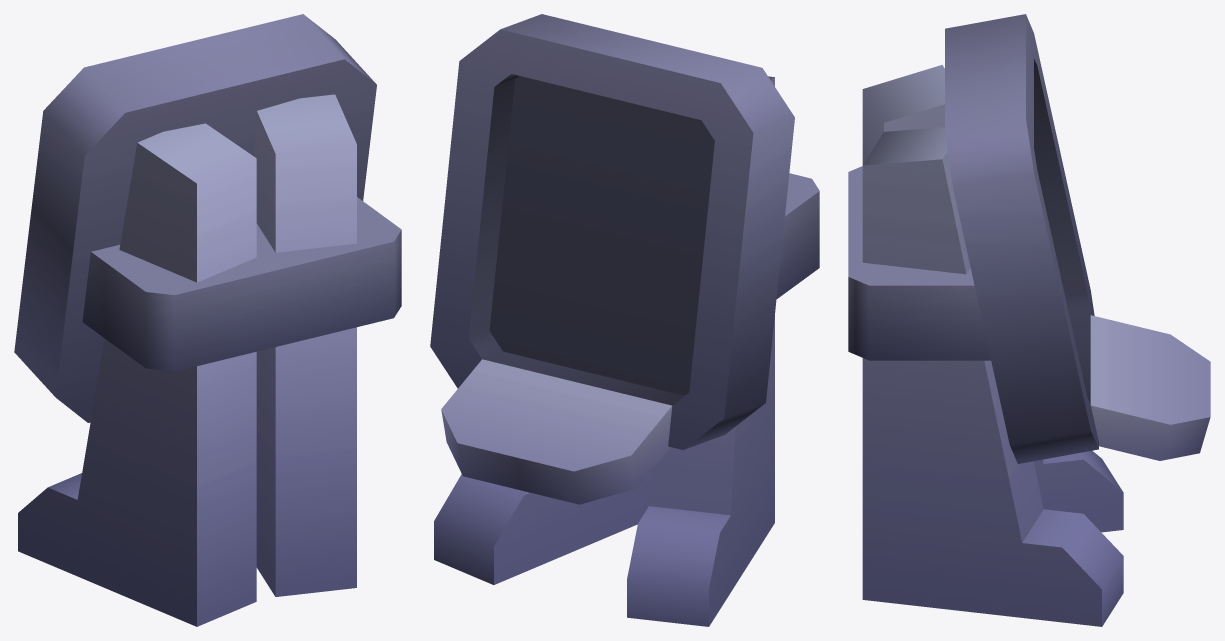
Rendered from kenney-conveyor-screen-panel-small.glb.
3 renders of one model, left to right at view 1: azimuth 30°, elevation 25°; view 2: azimuth 150°, elevation 25°; view 3: azimuth 270°, elevation 25°, orthographic. The views are drawn at different scales.
Parts seen in each view (by area): view 1: screen-panel-small; view 2: screen-panel-small; view 3: screen-panel-small.
Boxes of the visible parts, x1,y1,x2,y2 form: screen-panel-small: [14, 14, 401, 626]; screen-panel-small: [430, 14, 819, 626]; screen-panel-small: [848, 14, 1210, 626].
Size of the model in its own units: 0.6 by 0.9913 by 0.6572.
Materials: 1 (1 with a texture image).
